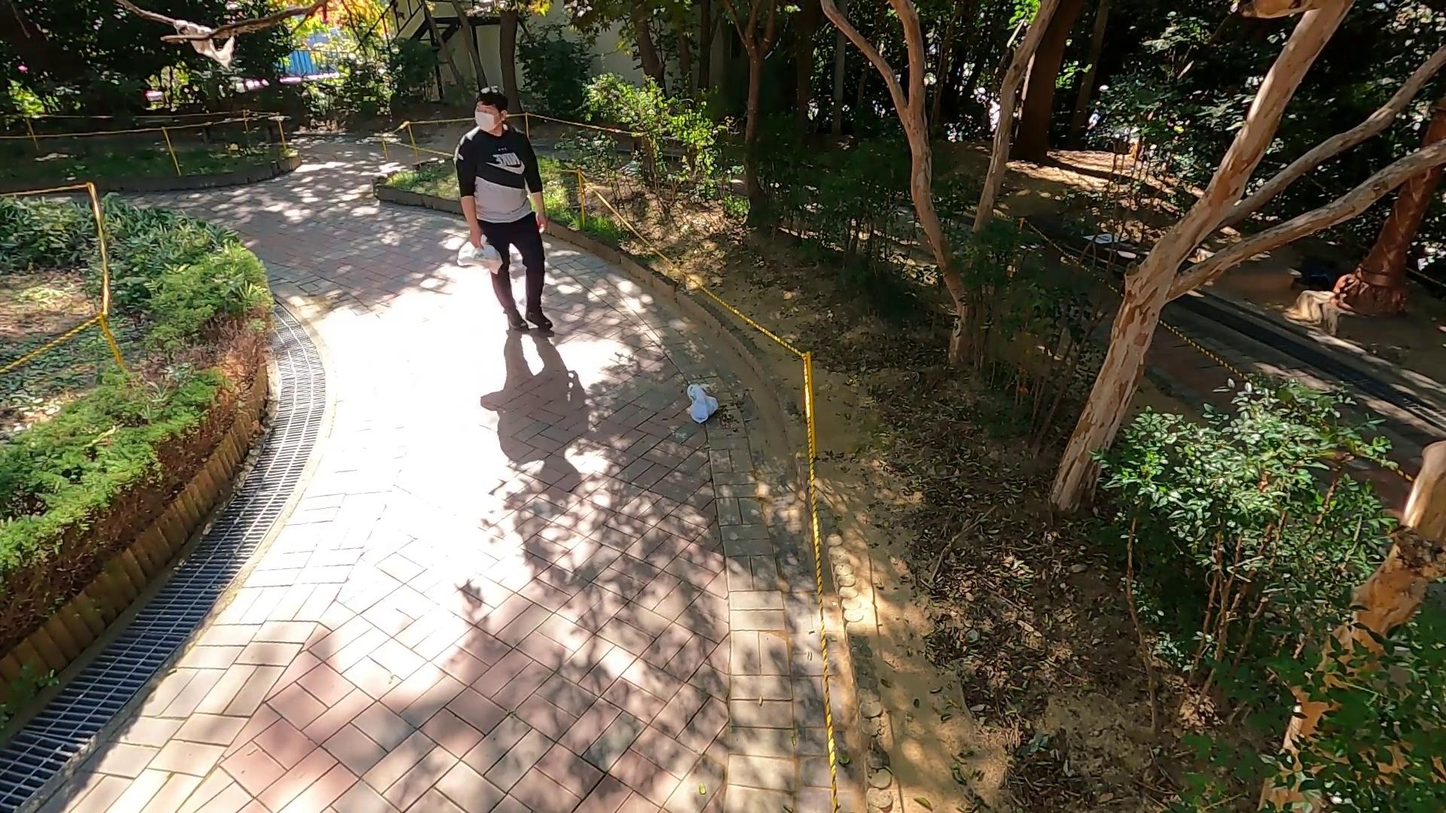person: (450, 85, 559, 336)
trash: (455, 236, 505, 275), (685, 382, 720, 424)
